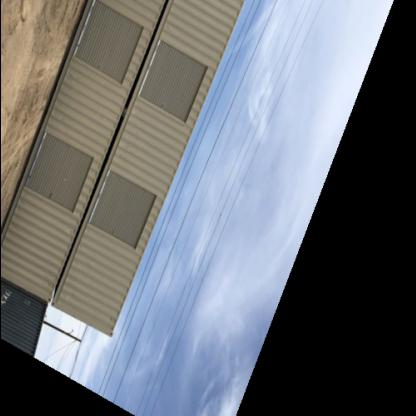Damage: (87, 61, 109, 74), (44, 187, 58, 200), (110, 228, 122, 238)
